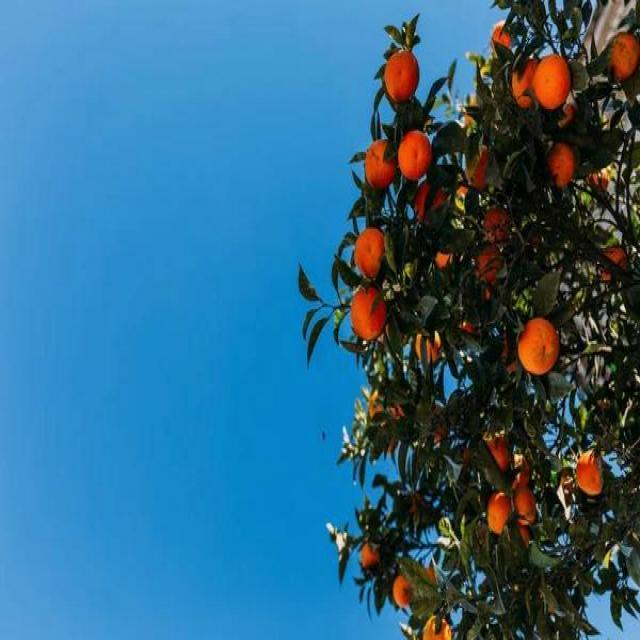Jeruk Sudah Matang: (516, 312, 559, 378), (533, 54, 570, 108), (352, 283, 386, 339), (385, 48, 420, 101), (353, 224, 385, 277), (610, 30, 640, 85), (399, 134, 430, 180), (514, 58, 540, 110), (577, 450, 605, 498), (367, 137, 394, 185), (512, 483, 540, 528), (414, 186, 444, 226), (548, 140, 574, 186), (490, 489, 514, 536), (484, 438, 509, 472), (424, 614, 456, 640), (476, 246, 502, 278), (494, 20, 516, 50), (486, 208, 508, 238), (394, 570, 412, 606), (364, 541, 378, 568)
